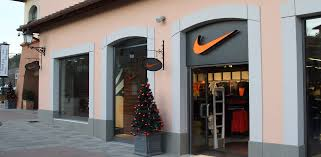nike: (189, 26, 241, 57)
